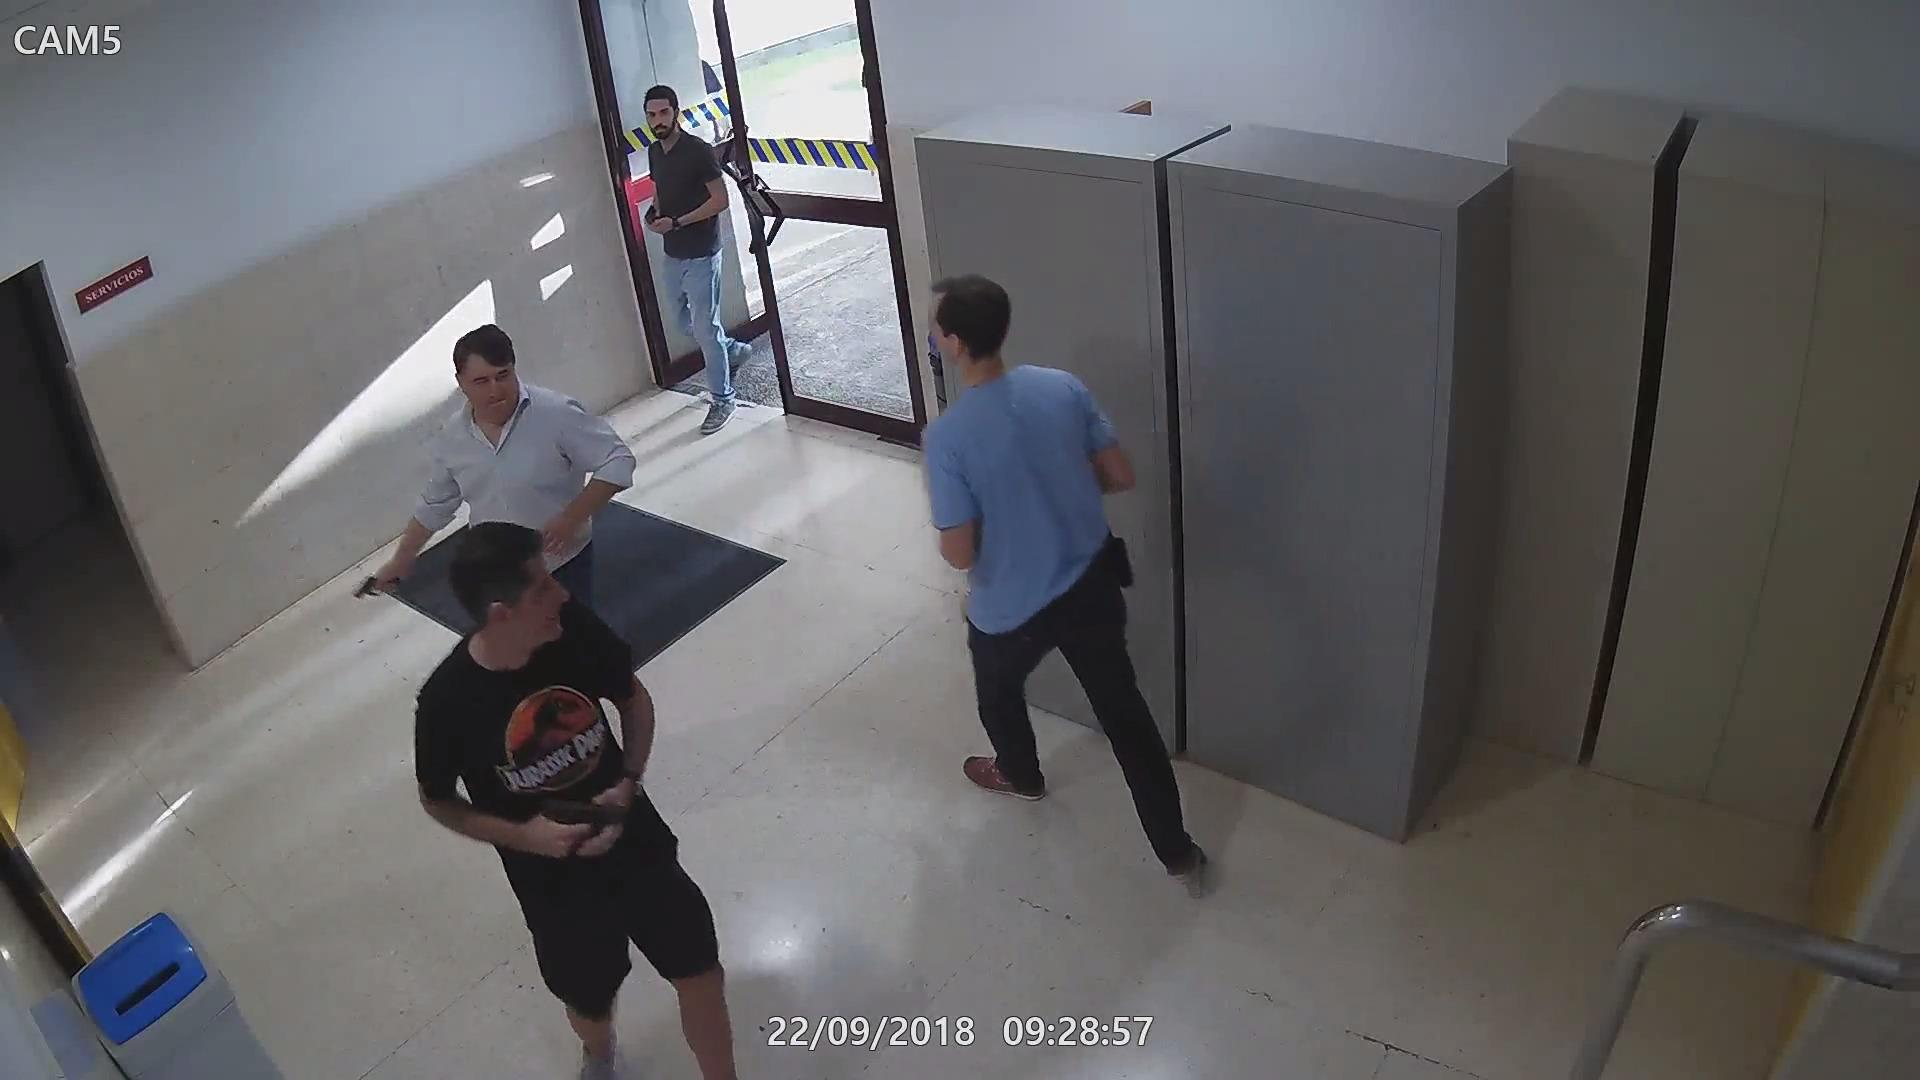Handgun: (531, 798, 634, 858), (351, 556, 418, 600), (638, 203, 665, 237)
